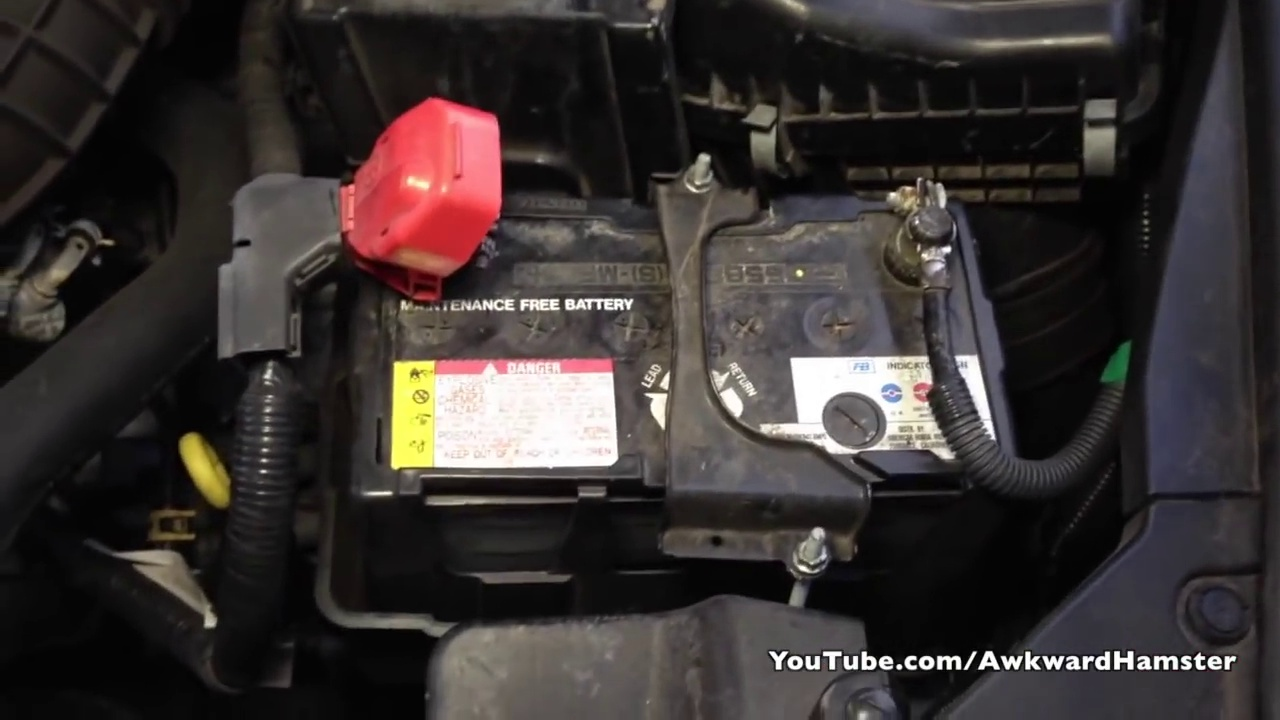battery: (353, 161, 1018, 503)
neg_connected: (861, 156, 992, 334)
pos_connected: (290, 98, 543, 304)
